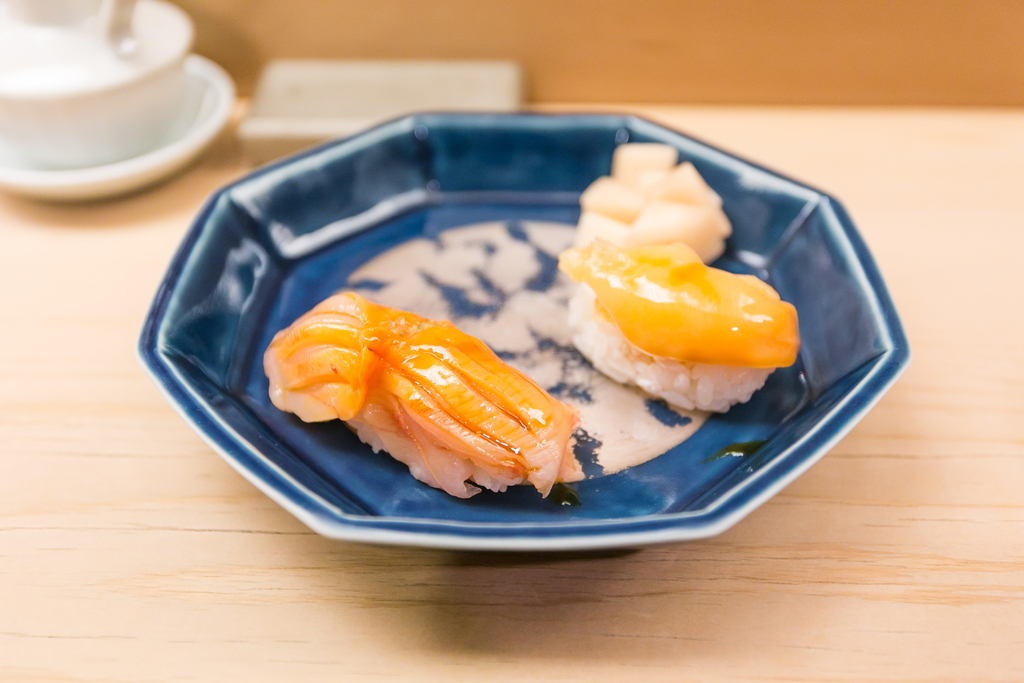sushi: (257, 287, 593, 495), (554, 220, 810, 429)
